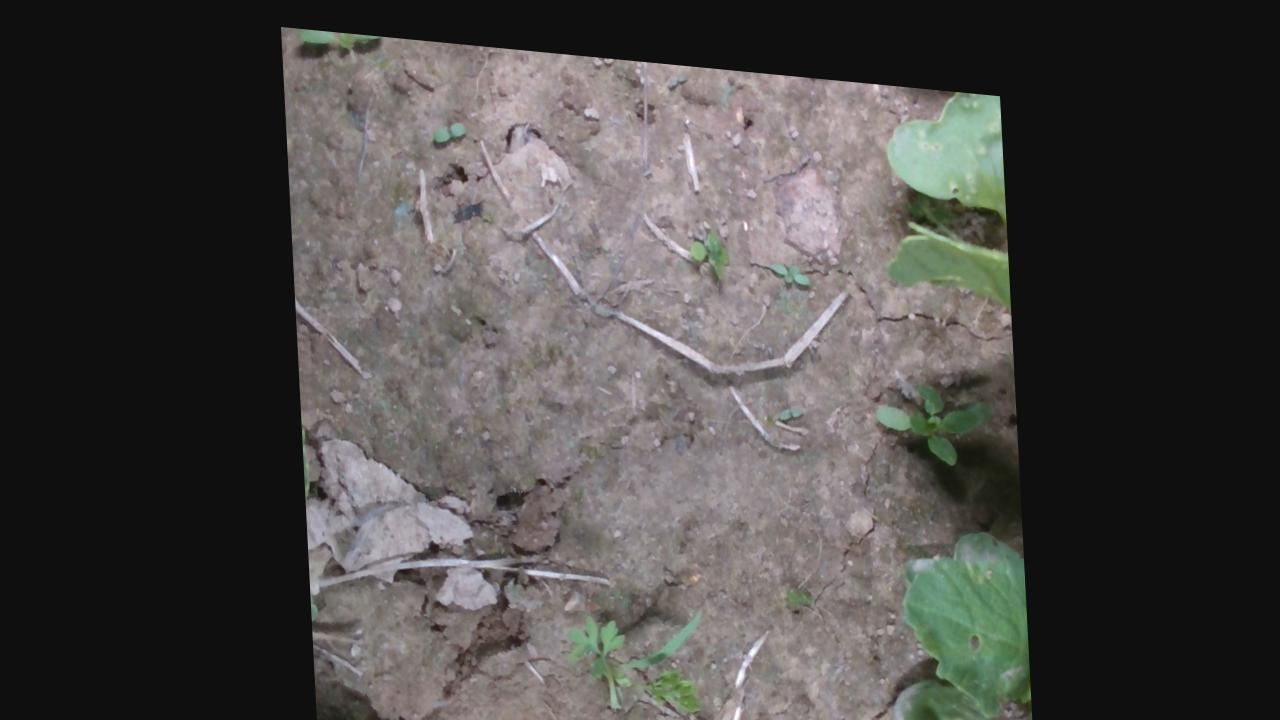weed: (296, 22, 386, 43), (431, 108, 468, 136), (766, 245, 809, 269), (773, 387, 799, 406)
